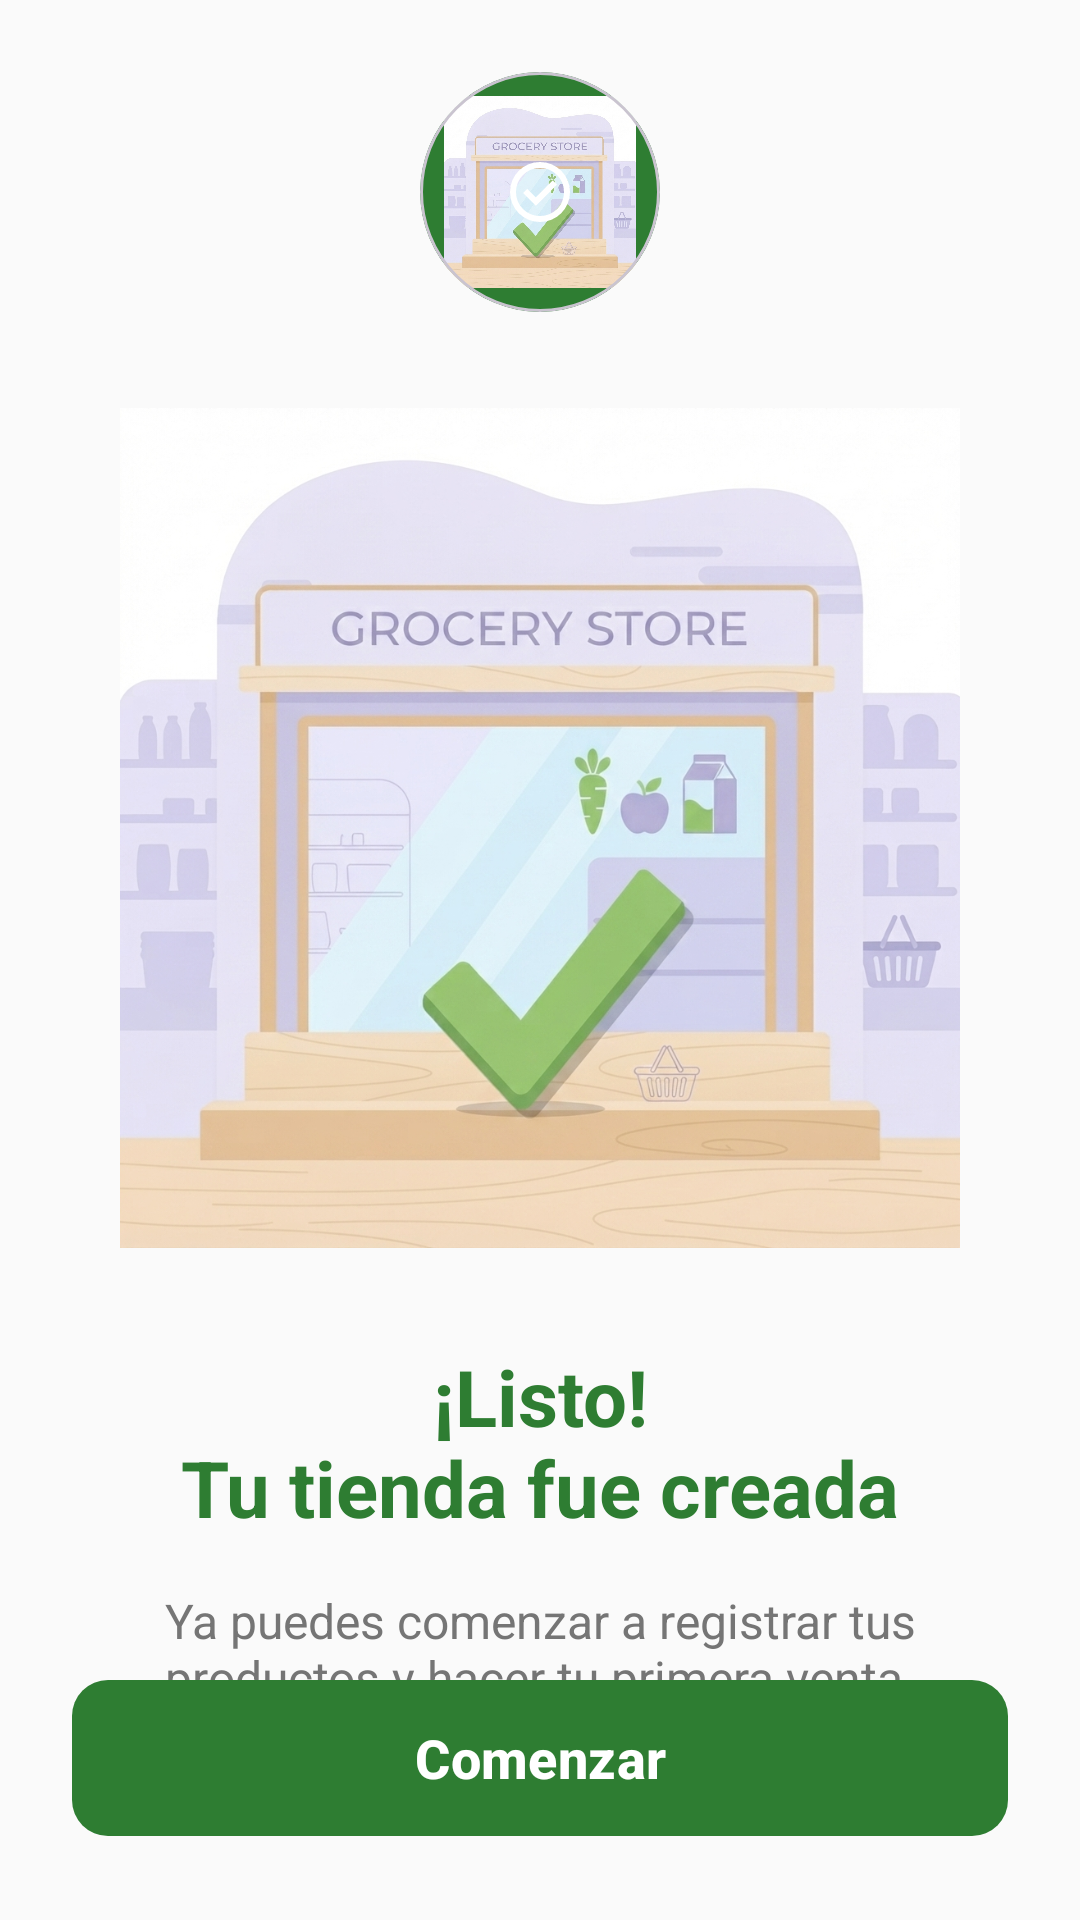

Icon bounding boxes for this 1080x1920 phone screenshot, format (x1, y1, x2, y2):
check circle: (504, 156, 576, 228)
